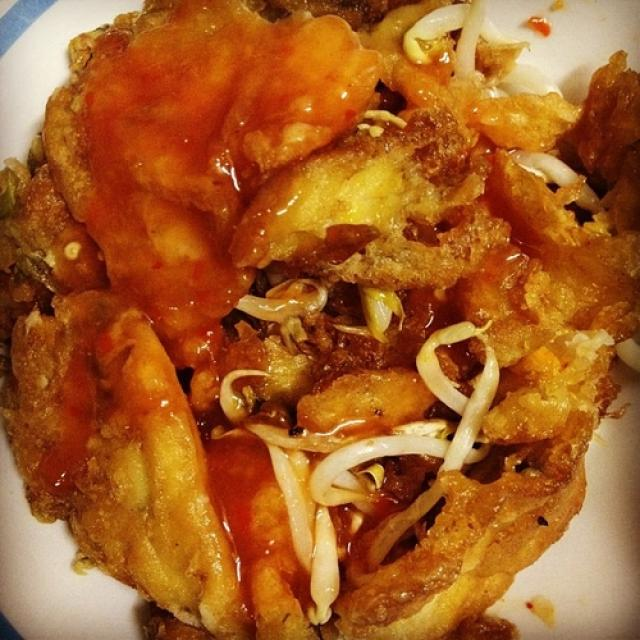炸货点心: (12, 21, 616, 616)
蛋糕甜品: (12, 21, 616, 616)
